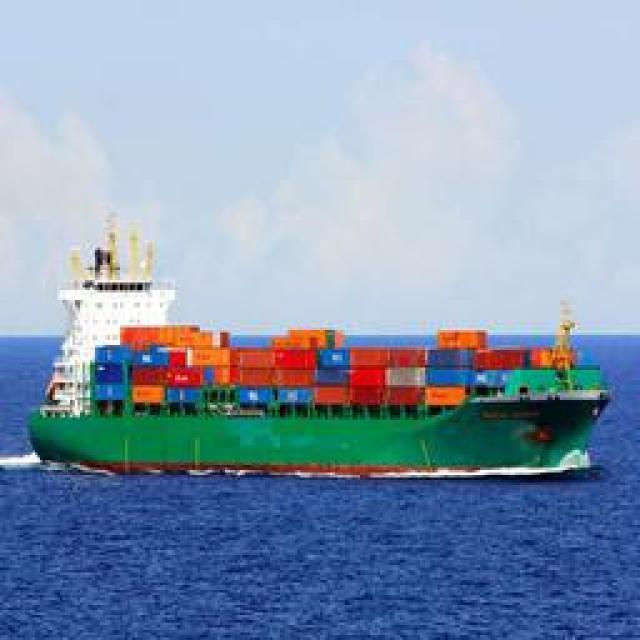Ship: (13, 298, 626, 481)
